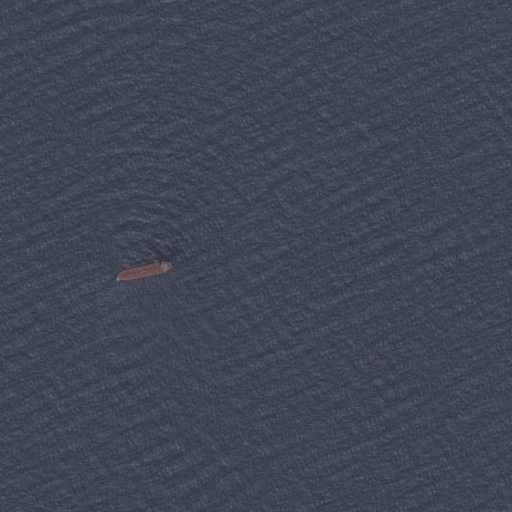ship: (112, 258, 175, 285)
